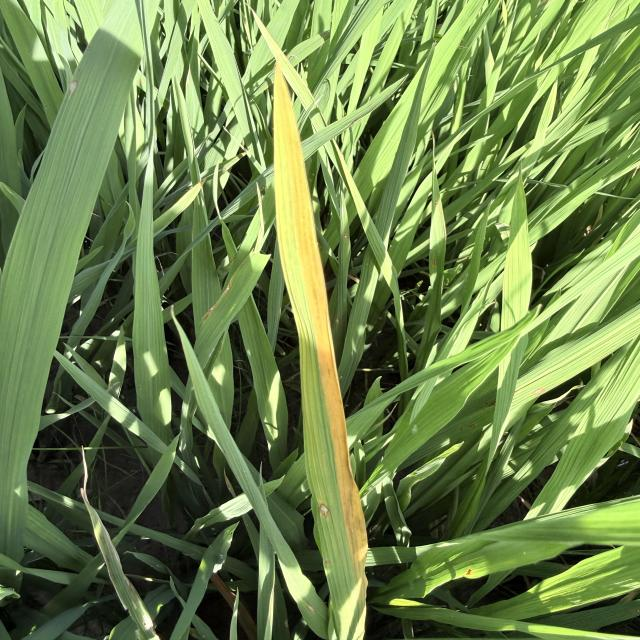Chay bia la: (278, 58, 372, 586)
